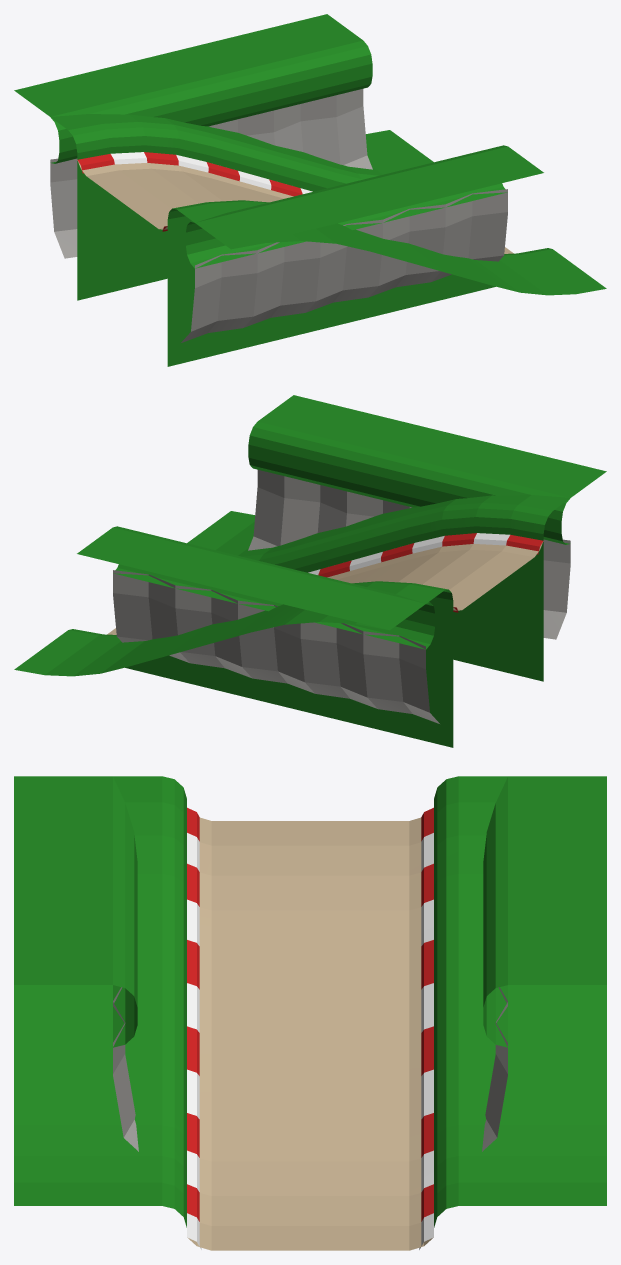
The model's file is Track_Cliff_Incline_Striped_2_Tall_Double.obj.
3 renders of one model, top to bottom at view 1: azimuth 30°, elevation 25°; view 2: azimuth 150°, elevation 25°; view 3: azimuth 270°, elevation 25°, orthographic. The views are drawn at different scales.
Parts seen in each view (by area): view 1: Grass, Rock, Dirt, Raceline_Color_2, Raceline_Color_1; view 2: Grass, Rock, Dirt, Raceline_Color_2, Raceline_Color_1; view 3: Grass, Dirt, Raceline_Color_1, Raceline_Color_2, Rock.
Boxes of the visible parts, x1,y1,x2,y2 form: Grass: [14, 14, 606, 366]; Rock: [50, 89, 507, 342]; Dirt: [77, 160, 513, 253]; Raceline_Color_2: [77, 152, 302, 231]; Raceline_Color_1: [111, 152, 312, 193]; Grass: [14, 395, 606, 747]; Rock: [113, 470, 570, 723]; Dirt: [107, 541, 543, 634]; Raceline_Color_2: [318, 533, 543, 612]; Raceline_Color_1: [308, 533, 509, 574]; Grass: [14, 776, 606, 1227]; Dirt: [187, 817, 433, 1250]; Raceline_Color_1: [187, 833, 433, 1249]; Raceline_Color_2: [187, 807, 433, 1221]; Rock: [113, 987, 507, 1151].
Size of the model in its own units: 6 by 2.5 by 6.
